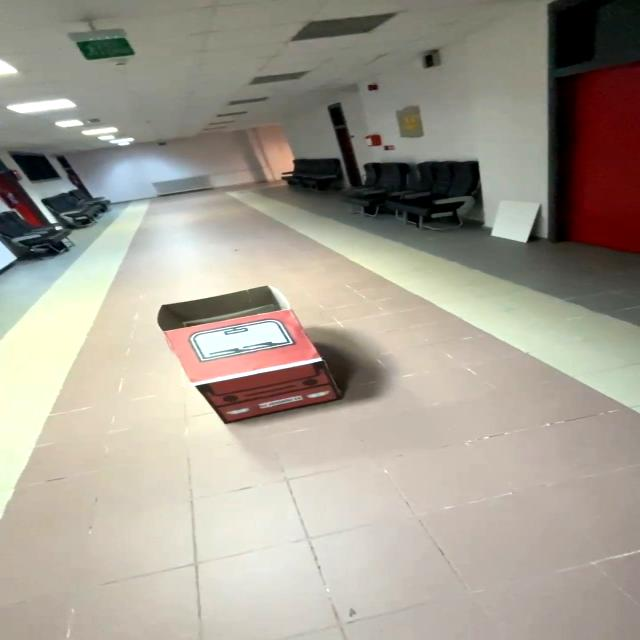red_car: (140, 279, 358, 447)
